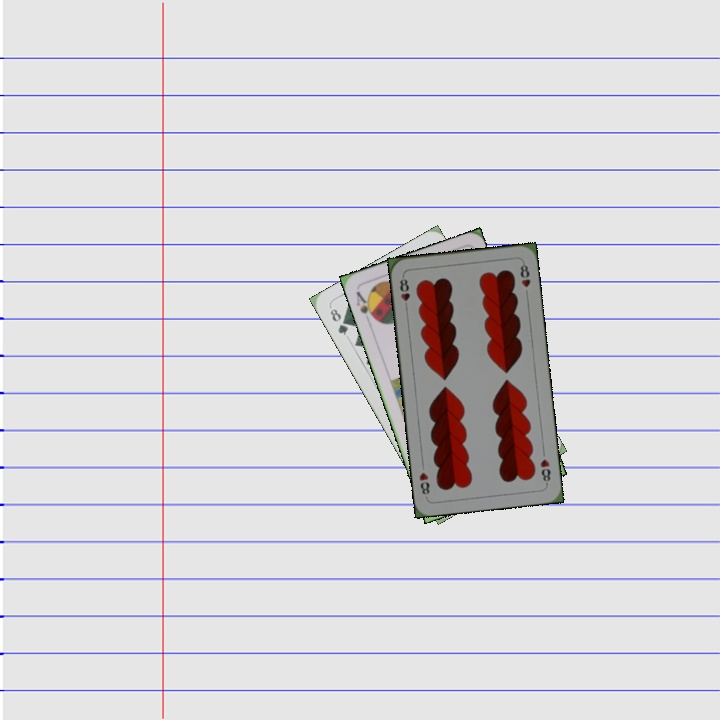G8: (326, 303, 351, 338)
H8: (396, 272, 412, 312), (536, 455, 553, 487)
SA: (352, 287, 379, 326)
